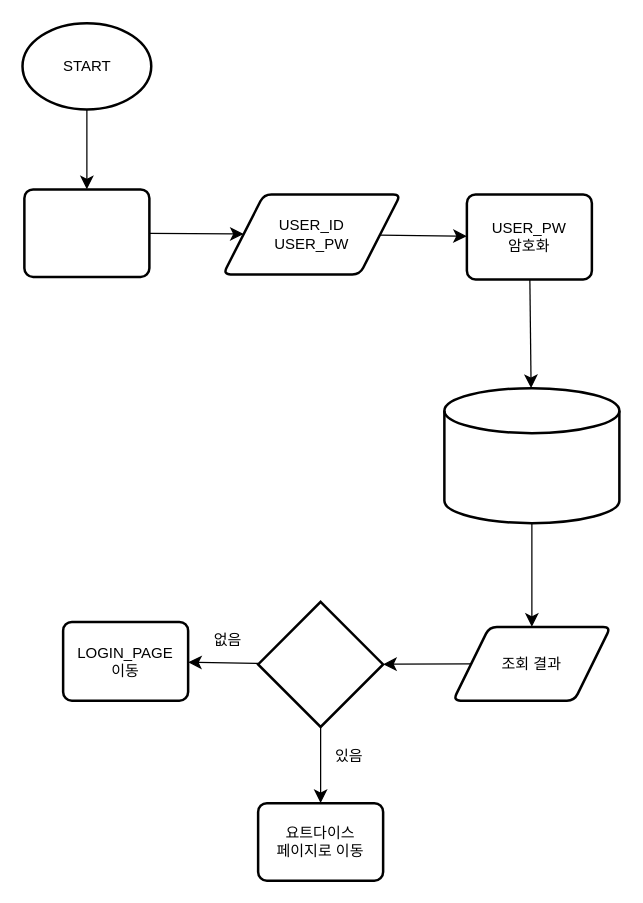
Some shapes in this 643 by 903 pixel diagram are drawn without their labels. Each missing label, with the centre of its shape:
"DB USER_INFO" belongs at point 531,455.
"로그인 버튼" belongs at point 86,233.
"조회 결과 유/무" belongs at point 320,664.
